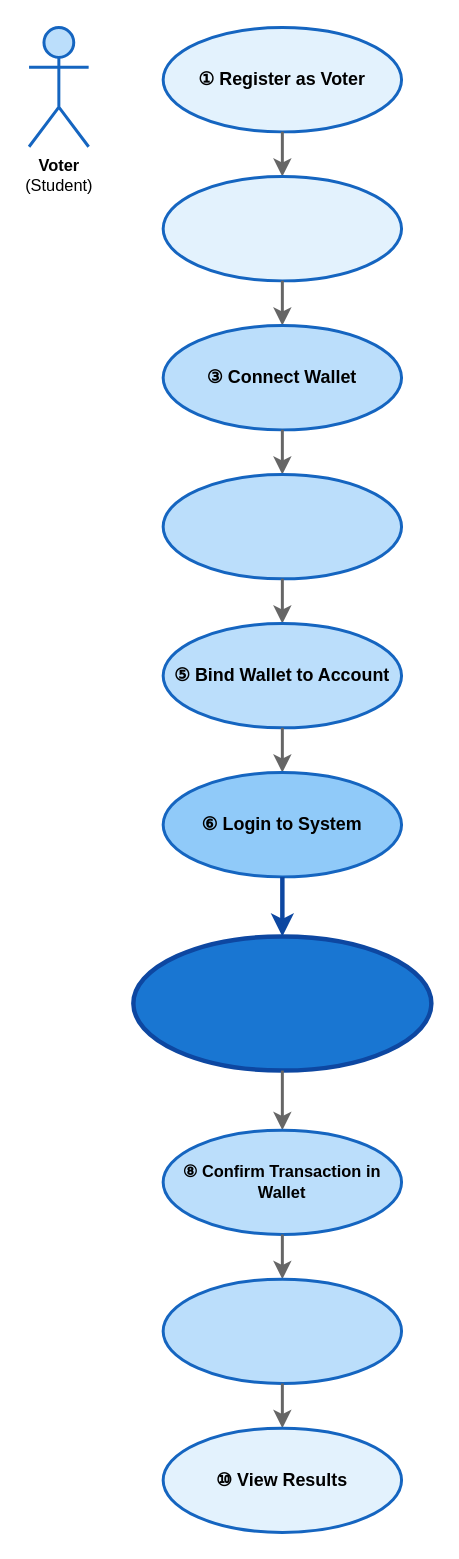
The diagram is 459 pixels wide and 1559 high, and some of its shapes have lost their labels. The centre of each missing label's shape, as x and y in pixels:
"② Verify OTP" goes at (x=281, y=228).
"④ Register on Blockchain" goes at (x=281, y=526).
"⑦ CAST VOTE" goes at (x=281, y=1002).
"⑨ Receive Email Confirmation" goes at (x=281, y=1330).
